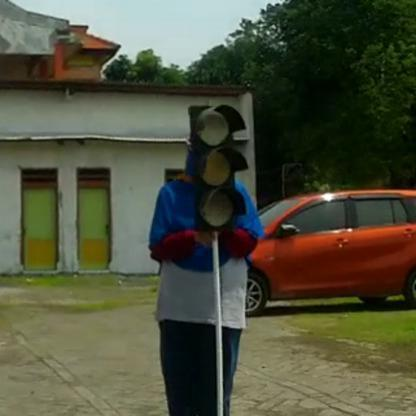yellow: (190, 106, 246, 230)
